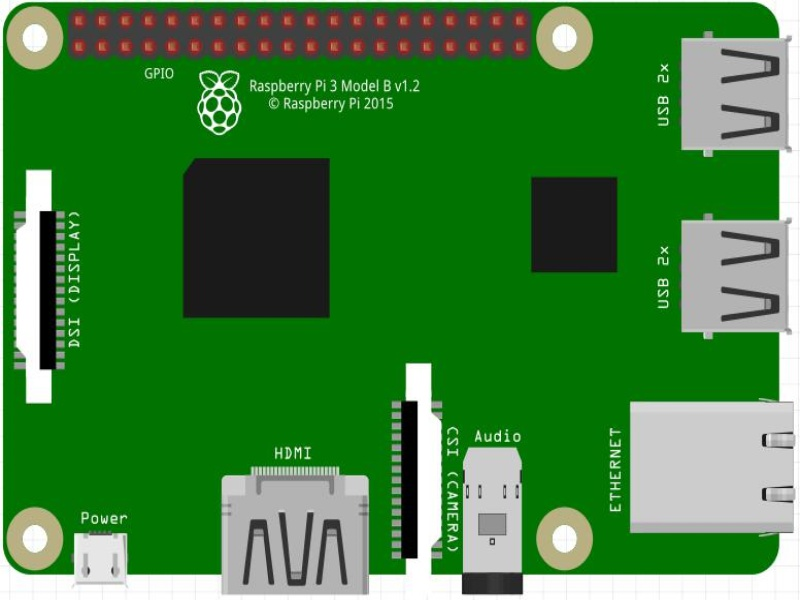raspberrypi: (4, 3, 762, 541)
